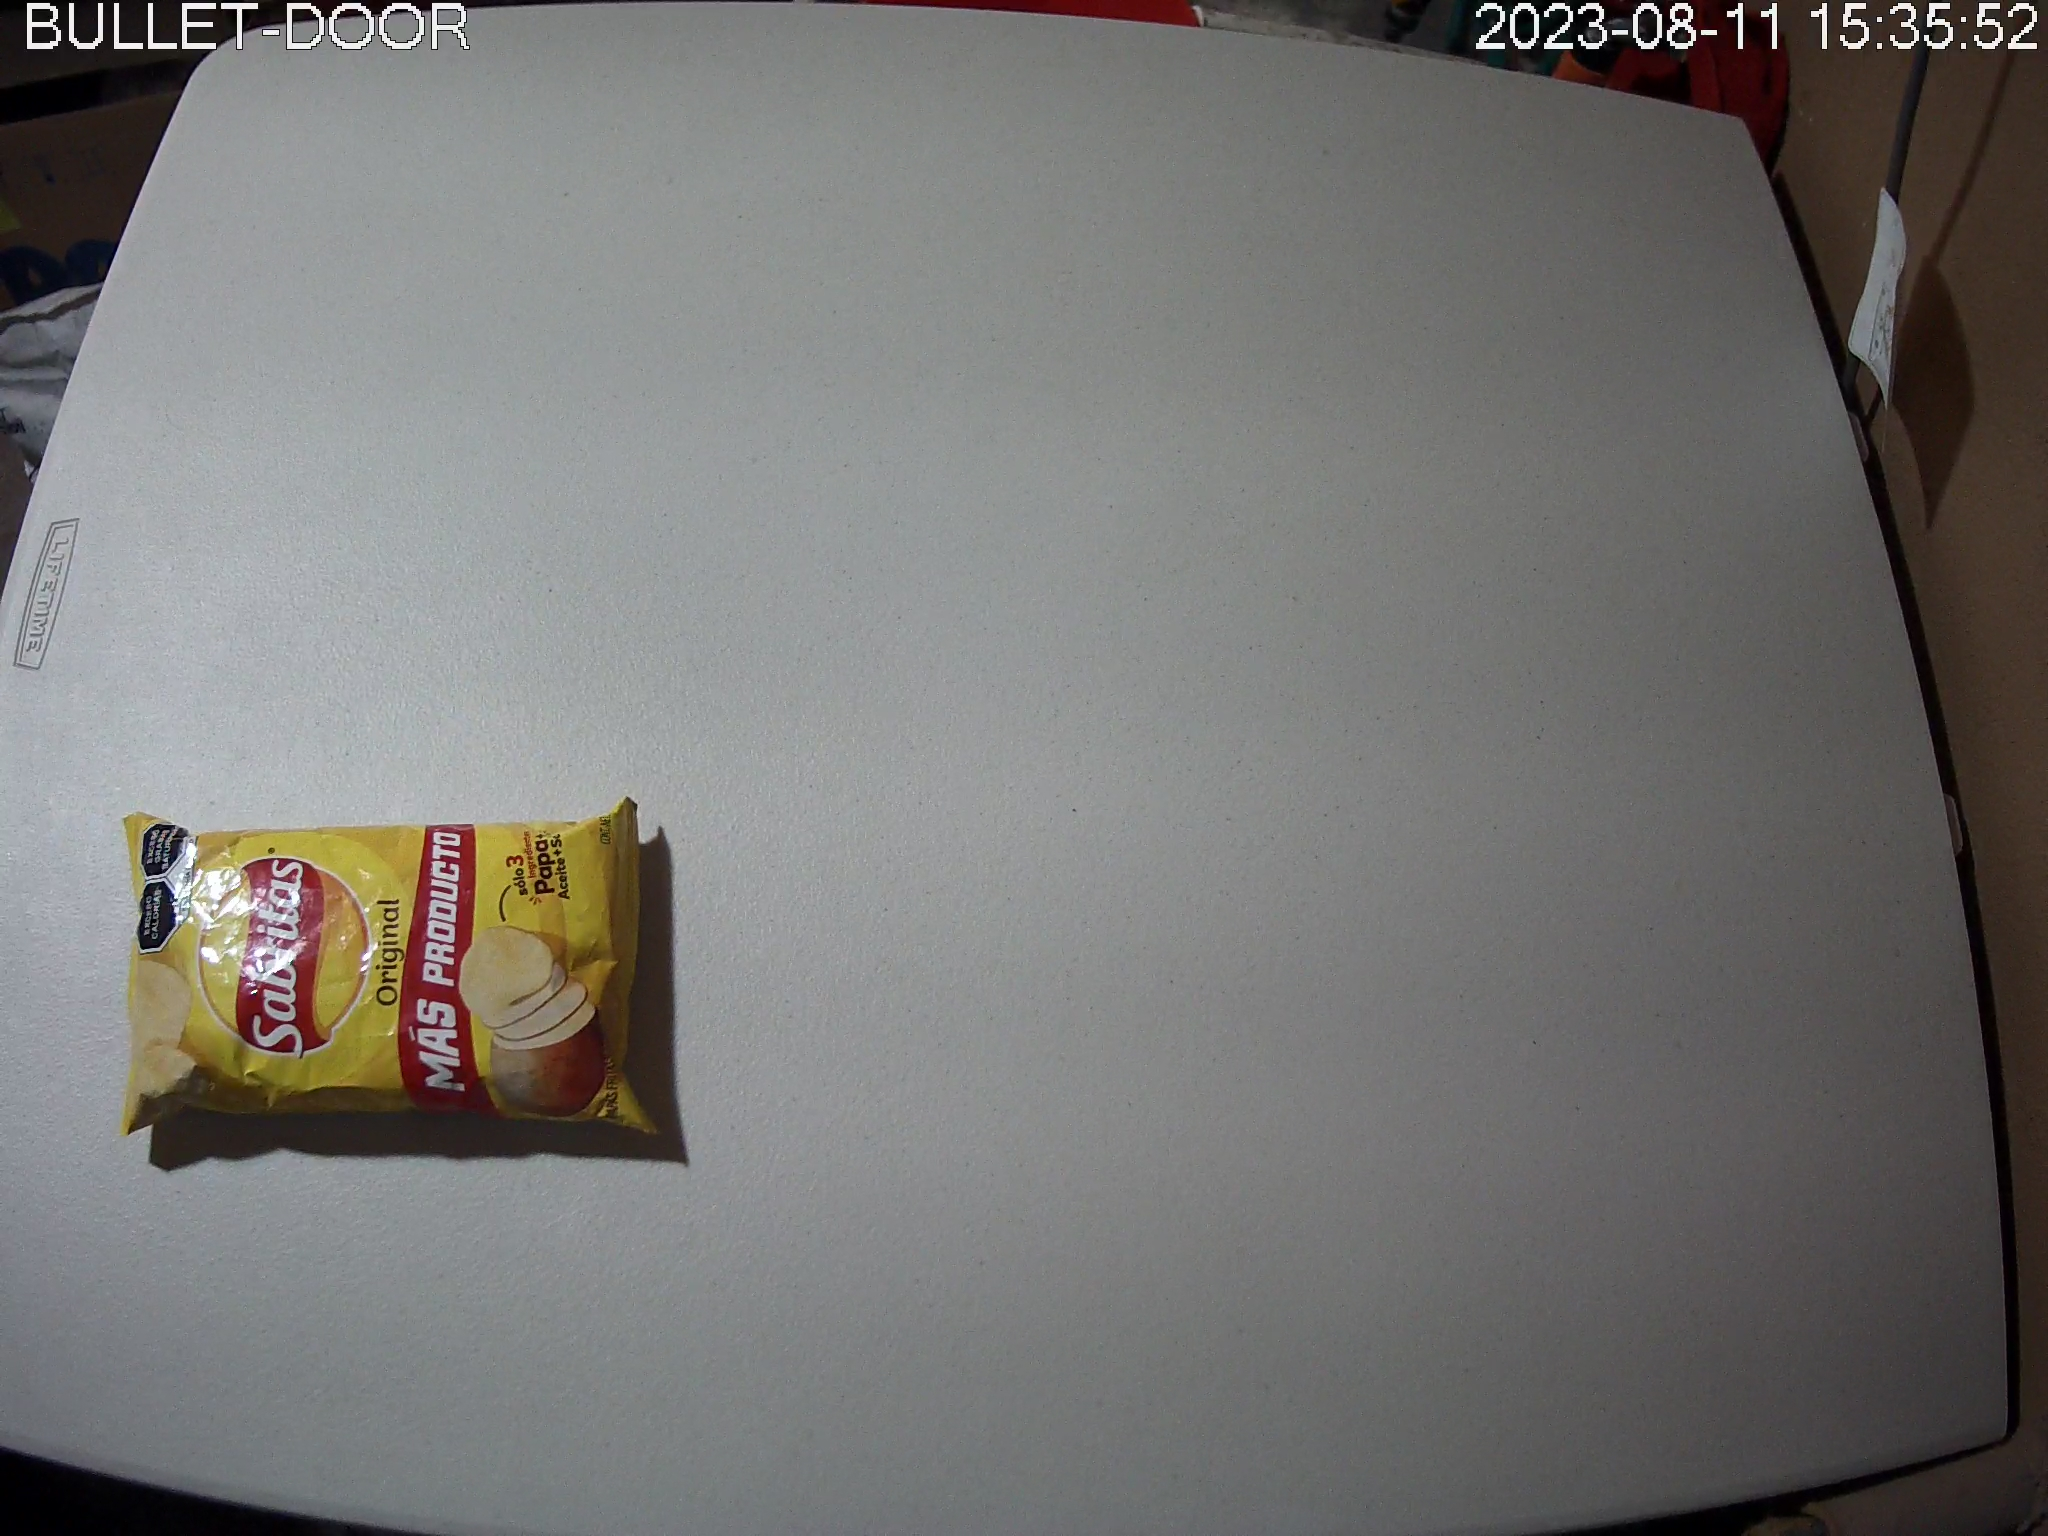Sabritas_45_F: (111, 794, 668, 1142)
